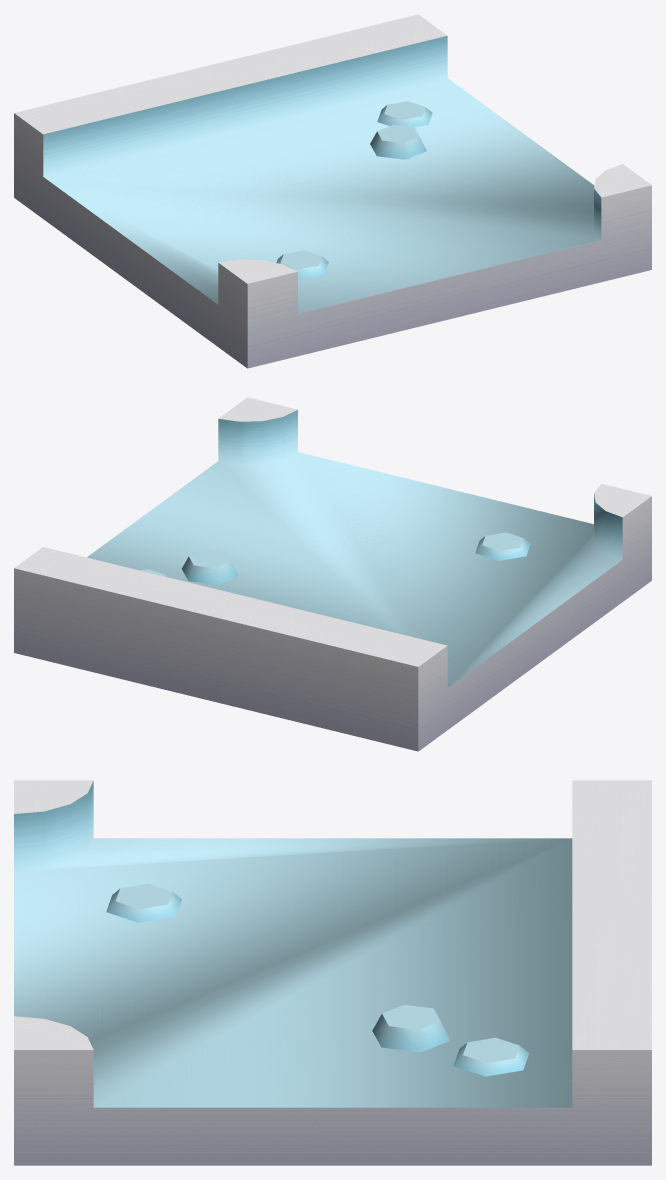
Rendered from snow-tile-split.glb.
3 renders of one model, top to bottom at view 1: azimuth 30°, elevation 25°; view 2: azimuth 150°, elevation 25°; view 3: azimuth 270°, elevation 25°, orthographic. The views are drawn at different scales.
Parts seen in each view (by area): view 1: snow-tile-split; view 2: snow-tile-split; view 3: snow-tile-split.
Part boxes in pixels (x1=…): snow-tile-split: x1=14, y1=14, x2=651, y2=368; snow-tile-split: x1=14, y1=397, x2=651, y2=751; snow-tile-split: x1=14, y1=780, x2=651, y2=1165.
Bounding box in the file's own units: 3 × 0.6 × 3.
Materials: 1 (1 with a texture image).
